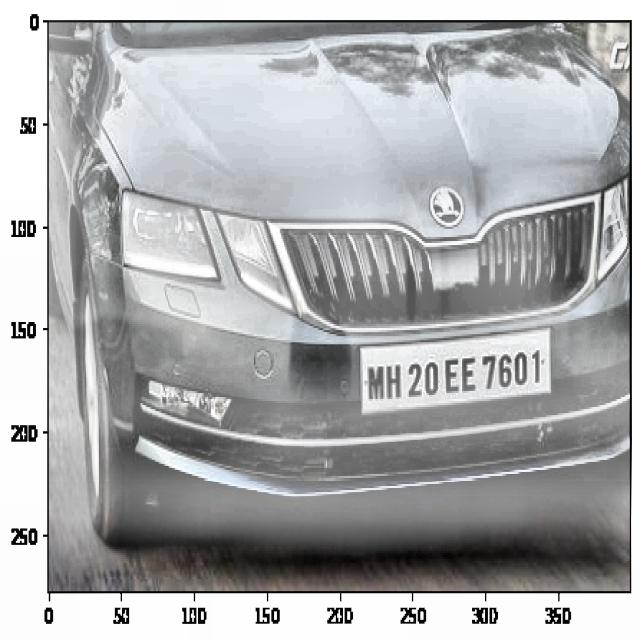license_plate: (361, 342, 544, 406)
